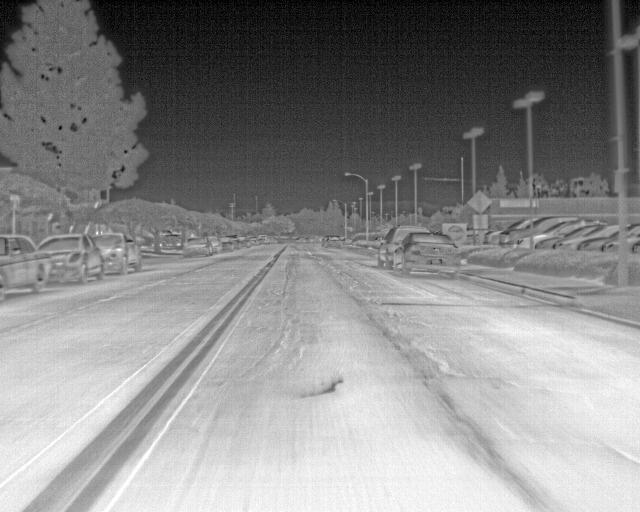car: (41, 235, 103, 287), (402, 232, 465, 280), (0, 234, 44, 298), (380, 223, 429, 268), (98, 230, 142, 275), (565, 224, 614, 248), (575, 228, 620, 252), (502, 221, 538, 245), (539, 226, 578, 248), (521, 224, 556, 245), (486, 222, 515, 240), (186, 236, 210, 256), (159, 233, 181, 252), (322, 233, 343, 251), (212, 237, 230, 257), (209, 235, 225, 255), (242, 235, 260, 247), (233, 234, 246, 250)
